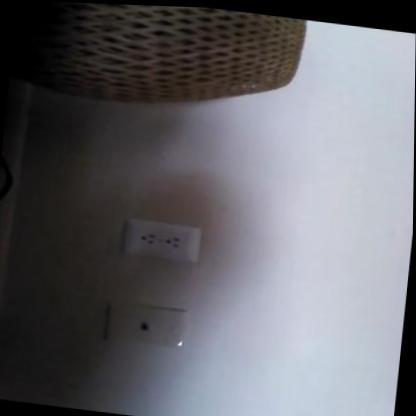OUTLET: (122, 216, 202, 264)
